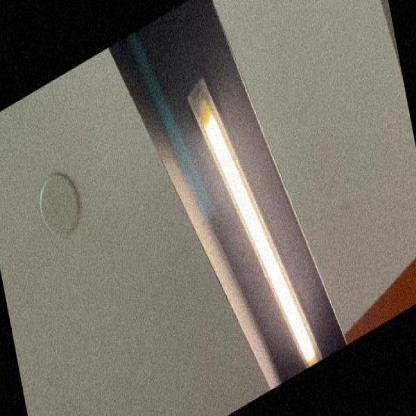light_on: (174, 28, 328, 411)
